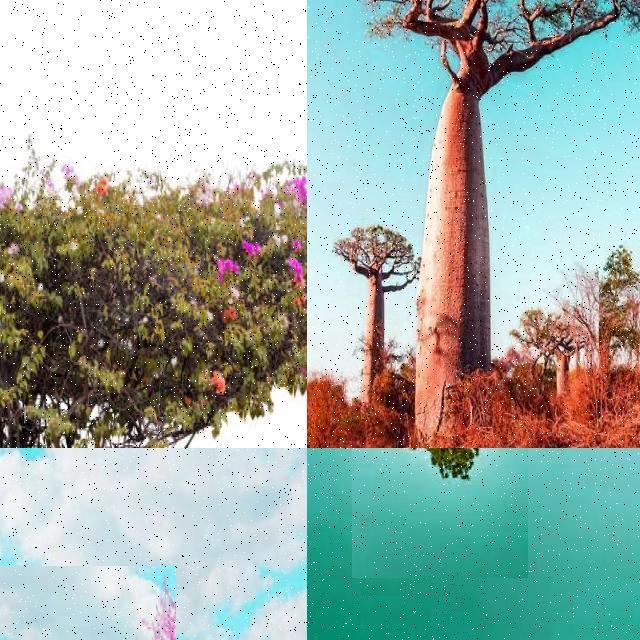tree: (320, 0, 640, 422), (1, 134, 308, 448), (352, 448, 528, 578), (332, 208, 422, 406), (0, 566, 176, 640), (510, 299, 578, 425), (599, 241, 640, 399)
